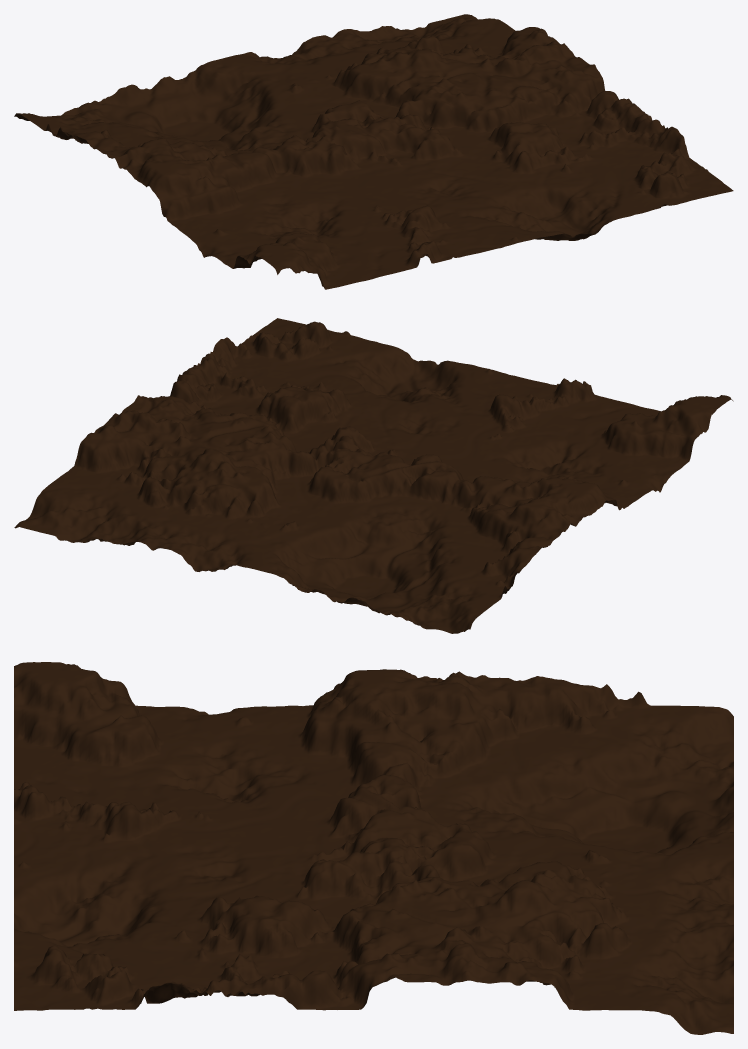
File: 2x2.3_cubes_500m_003.glb
3 renders of one model, top to bottom at view 1: azimuth 30°, elevation 25°; view 2: azimuth 150°, elevation 25°; view 3: azimuth 270°, elevation 25°, orthographic. The views are drawn at different scales.
Visible parts, largest first — view 1: Cube; view 2: Cube; view 3: Cube.
Part boxes in pixels (left/top/right/bottom): Cube: left=14, top=14, right=733, bottom=289; Cube: left=14, top=318, right=733, bottom=633; Cube: left=14, top=662, right=733, bottom=1034.
Bounding box in the file's own units: 500 × 68.27 × 500.
